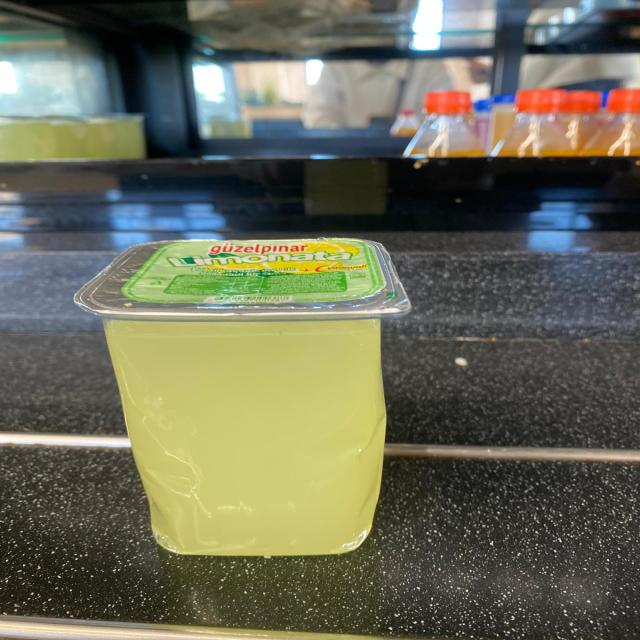yan_yemek: (73, 236, 412, 556)
